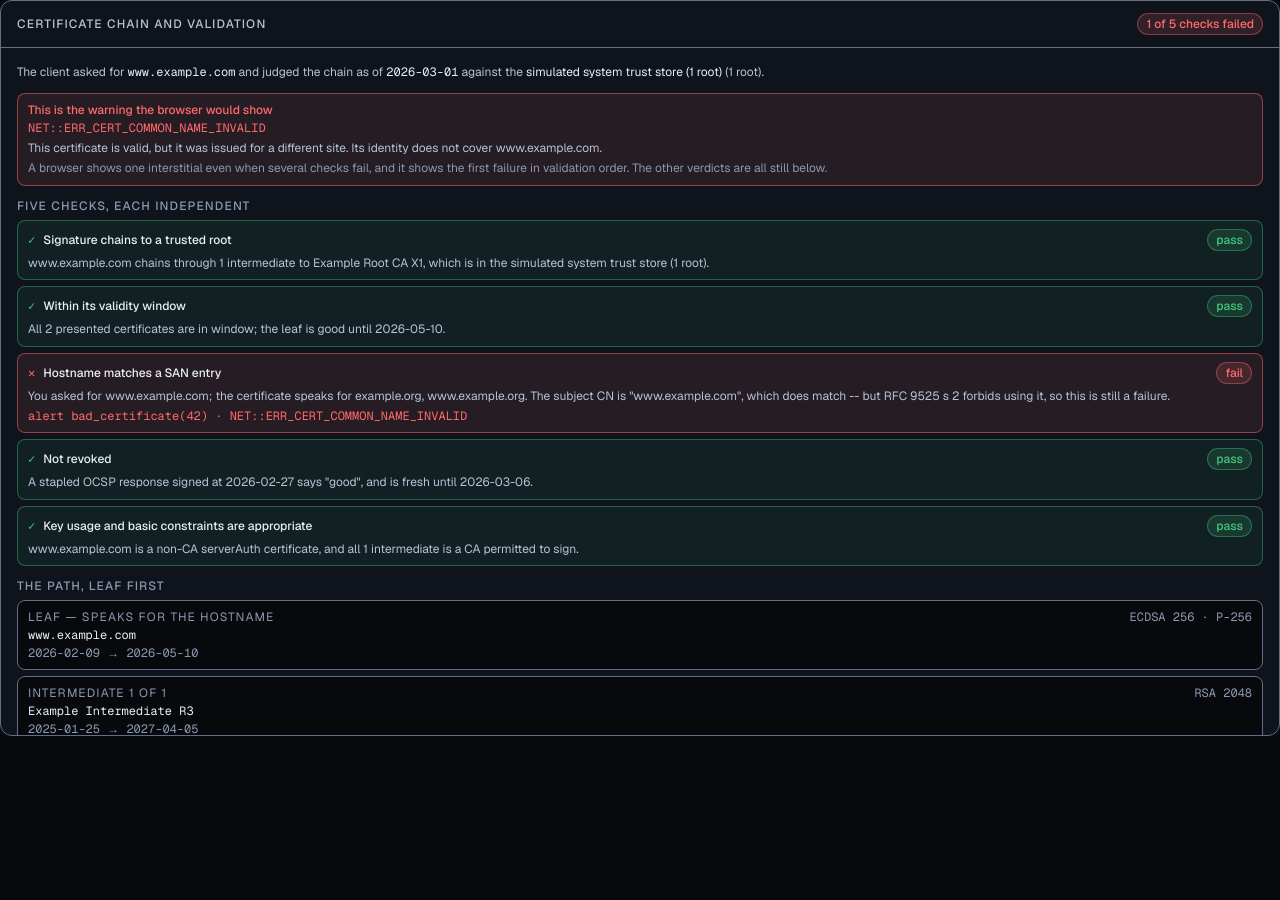
Test: the hostname check › says the Common Name would have matched and is not consulted
The image size is (1280, 900).
Click the button that starts with "Hostname matches a SAN entry" at point(640, 393), box [17,352,1263,433]
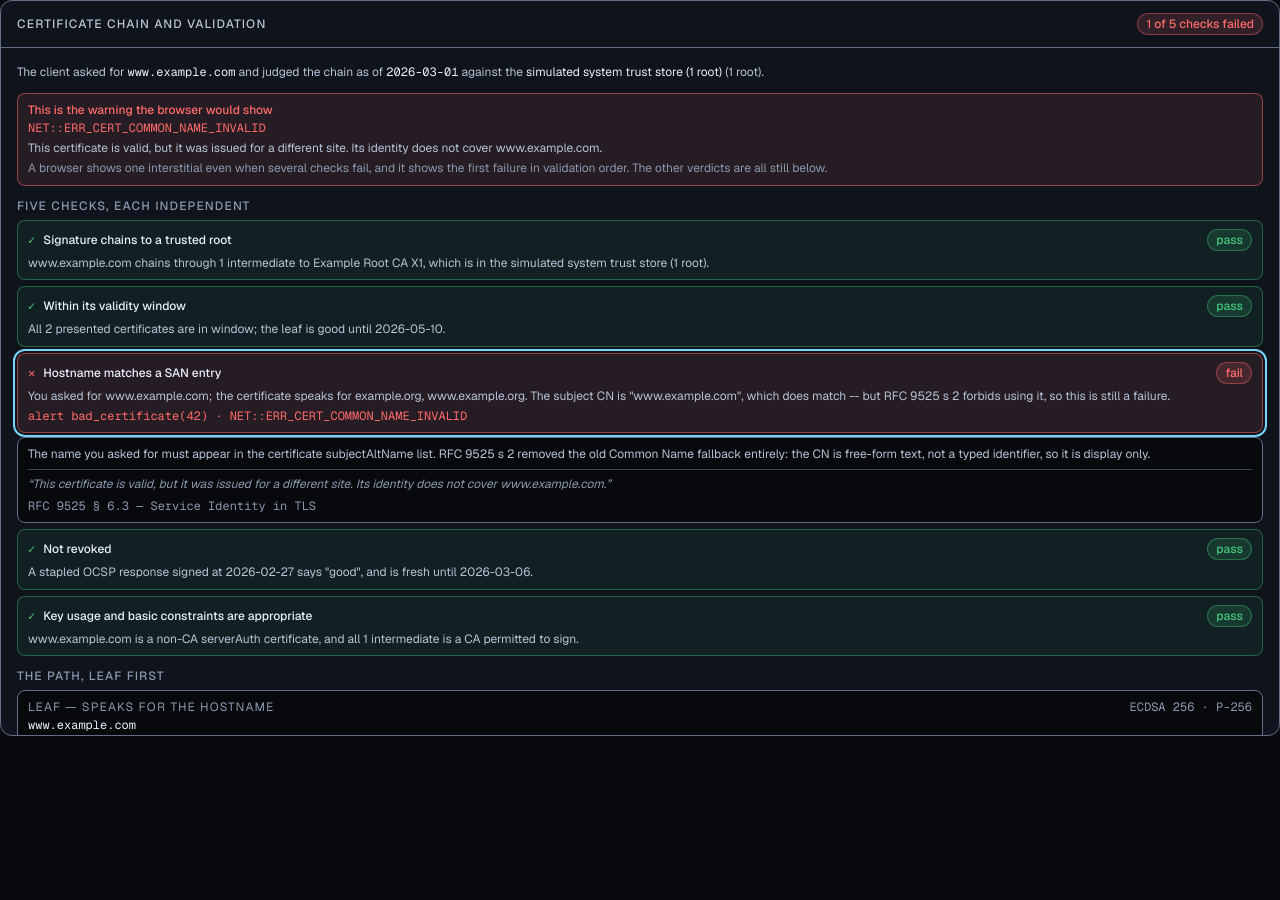
Check: the text "removed the old Common Name fallback" is shown, box [28,446,1150,462]
Check: the text "RFC 9525 § 6.3 — Service Identity in TLS" is shown, box [28,498,316,514]
